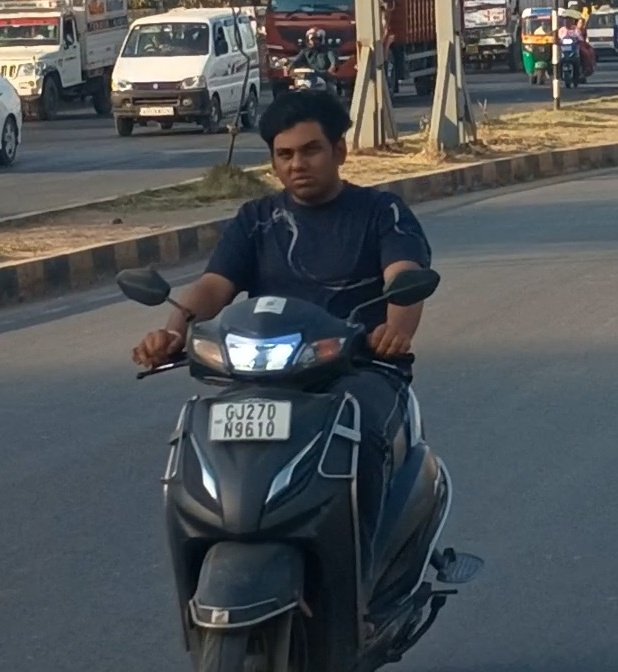BikeWithRider: (108, 79, 490, 672), (282, 25, 348, 87), (550, 12, 598, 91)
NoHelmet: (249, 84, 359, 205)
